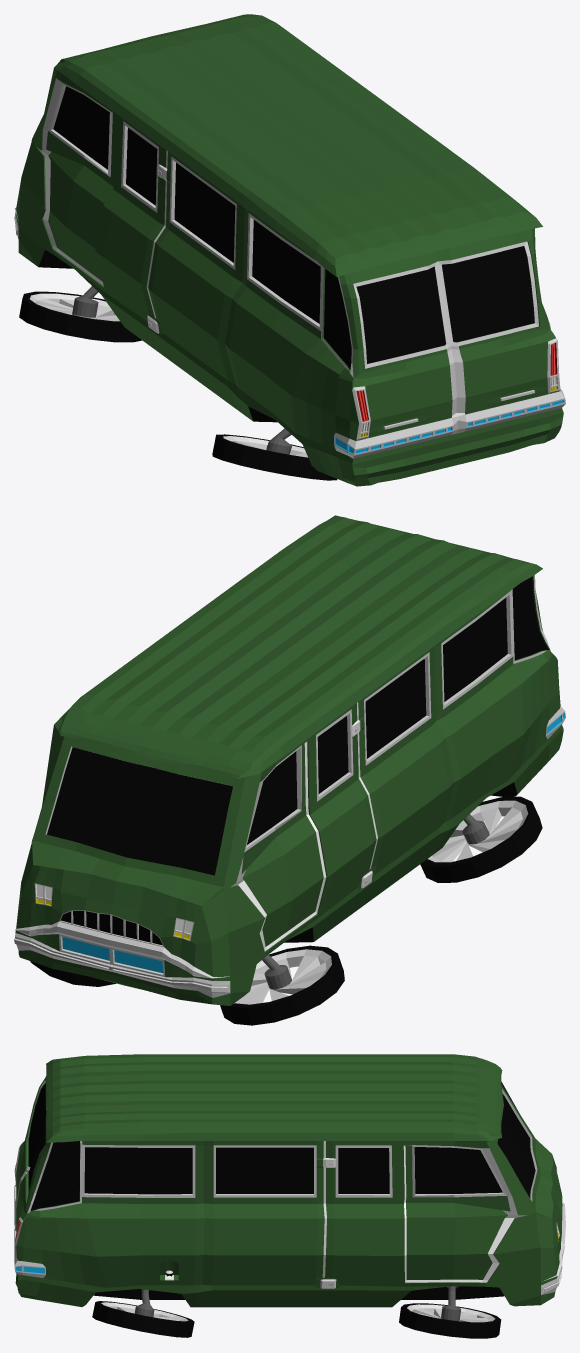
The model's file is cyberBread.glb.
3 renders of one model, top to bottom at view 1: azimuth 30°, elevation 25°; view 2: azimuth 150°, elevation 25°; view 3: azimuth 270°, elevation 25°, orthographic. The views are drawn at different scales.
Visible parts, largest first — view 1: Cube; view 2: Cube; view 3: Cube.
Part boxes in pixels (left/top/right/bottom): Cube: left=14, top=14, right=565, bottom=486; Cube: left=14, top=515, right=565, bottom=1025; Cube: left=14, top=1054, right=565, bottom=1338.
Size of the model in its own units: 1.93 by 1.62 by 3.76.
